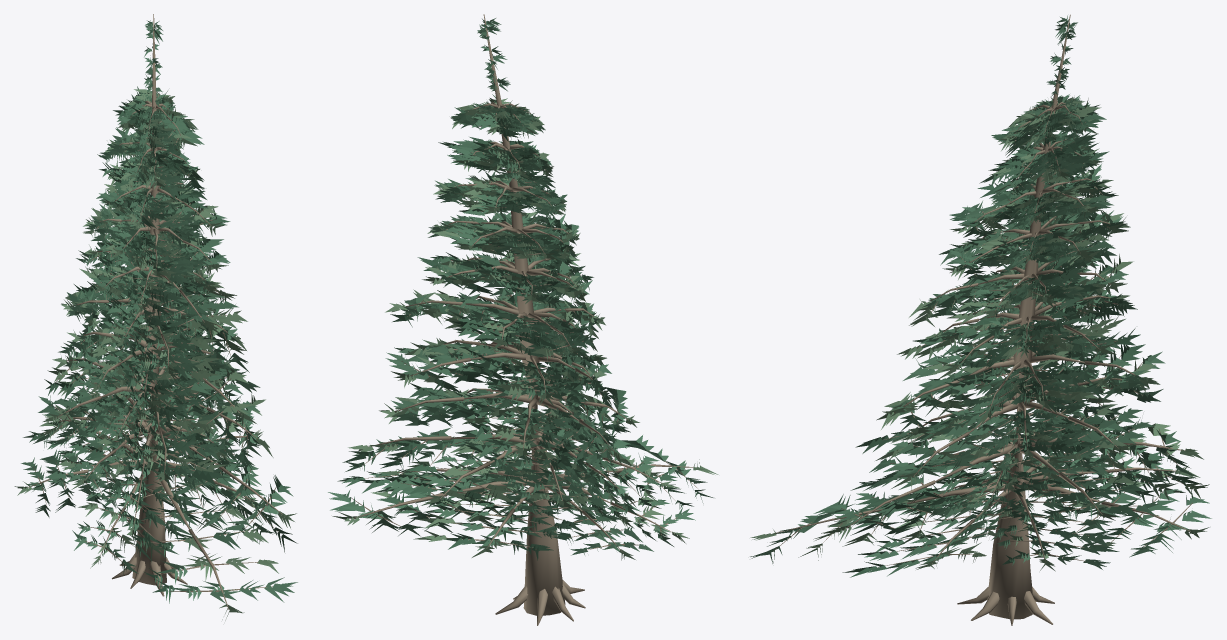
The model's file is cedar_9.glb.
The picture shows the model from 3 angles, left to right: view 1: azimuth 30°, elevation 25°; view 2: azimuth 150°, elevation 25°; view 3: azimuth 270°, elevation 25°; orthographic projection. The views are drawn at different scales.
Visible parts, largest first — view 1: tree_conifer_ConiferLeaf, tree_conifer_ConiferLeafLight, tree_conifer_ConiferLeafDark, tree_conifer_ConiferBark; view 2: tree_conifer_ConiferLeaf, tree_conifer_ConiferLeafLight, tree_conifer_ConiferBark, tree_conifer_ConiferLeafDark; view 3: tree_conifer_ConiferLeaf, tree_conifer_ConiferLeafLight, tree_conifer_ConiferBark, tree_conifer_ConiferLeafDark.
Part boxes in pixels (x1,y1,x2,y2): tree_conifer_ConiferLeaf: (21,20,297,603); tree_conifer_ConiferLeafLight: (14,89,296,620); tree_conifer_ConiferLeafDark: (23,91,297,603); tree_conifer_ConiferBark: (28,14,282,609); tree_conifer_ConiferLeaf: (328,18,707,555); tree_conifer_ConiferLeafLight: (332,98,718,560); tree_conifer_ConiferBark: (350,14,702,625); tree_conifer_ConiferLeafDark: (342,102,713,560); tree_conifer_ConiferLeaf: (750,15,1211,576); tree_conifer_ConiferLeafLight: (750,97,1209,571); tree_conifer_ConiferBark: (770,14,1192,625); tree_conifer_ConiferLeafDark: (826,95,1202,577).
Size of the model in its own units: 7.17 by 14.65 by 10.07.
